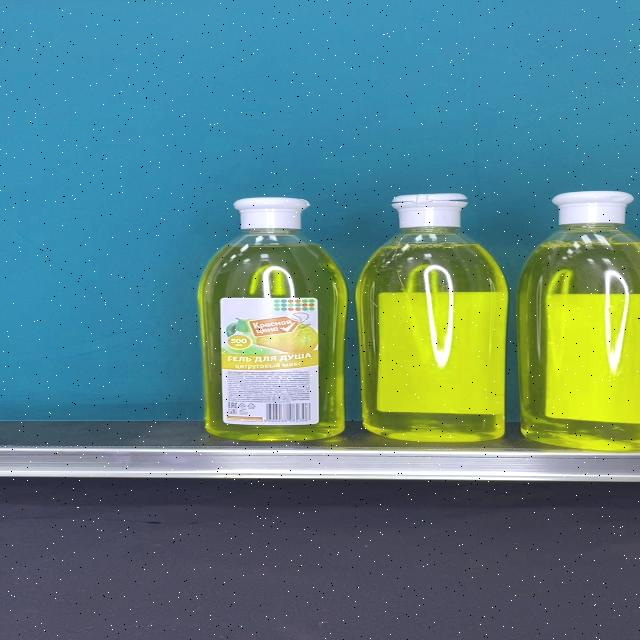Bottle: (355, 193, 508, 441), (198, 197, 347, 441), (515, 190, 640, 452)
Cap: (553, 190, 635, 226), (234, 197, 312, 231), (391, 193, 468, 227)
